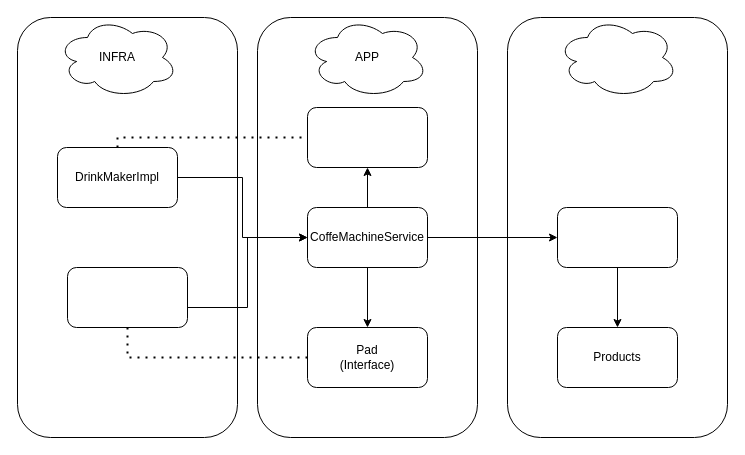
This 745x455 diagram has some shape labels left out. Here are the shapes that lost their labels. From the top down, the centre of each, then its label:
At point 617,57: "DOMAIN".
At point 367,137: "DrinkMaker (Interface)".
At point 617,237: "MachineOrder".
At point 127,297: "PadImpl".
